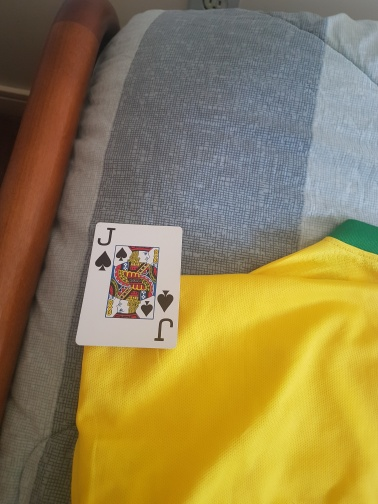jack: (74, 222, 184, 351)
